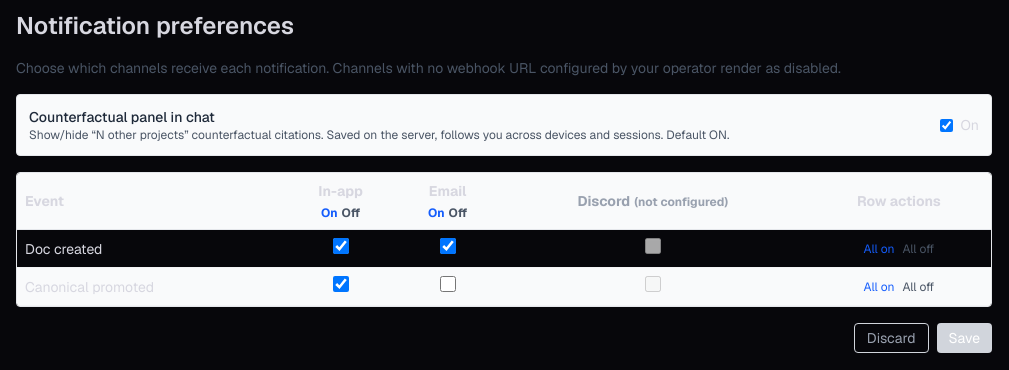
Test: NotificationPreferencesGrid › column bulk-off disables every row for the channel
Click the button with test id "notif-pref-column-in_app-disable-all".
click(351, 213)  # box [342,205,360,221]
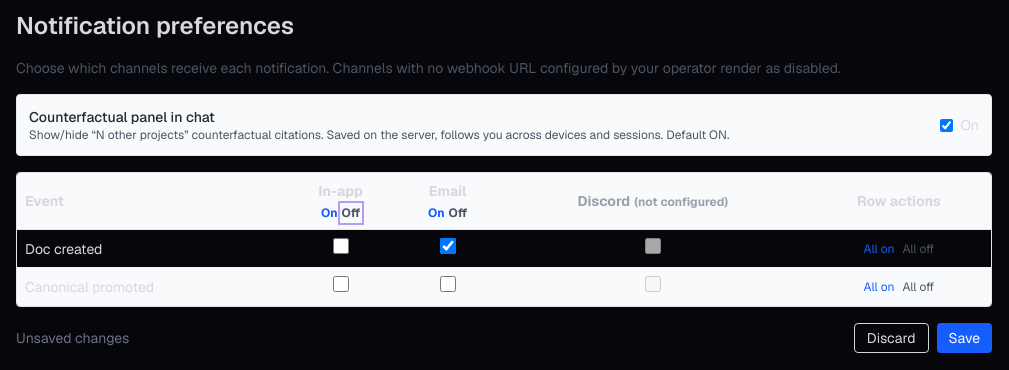
Now the checkbox with test id "notif-pref-cell-kb_doc_created-in_app-toggle" is not checked, box [333,238,349,254]
Now the checkbox with test id "notif-pref-cell-kb_canonical_promoted-in_app-toggle" is not checked, box [333,276,349,292]
